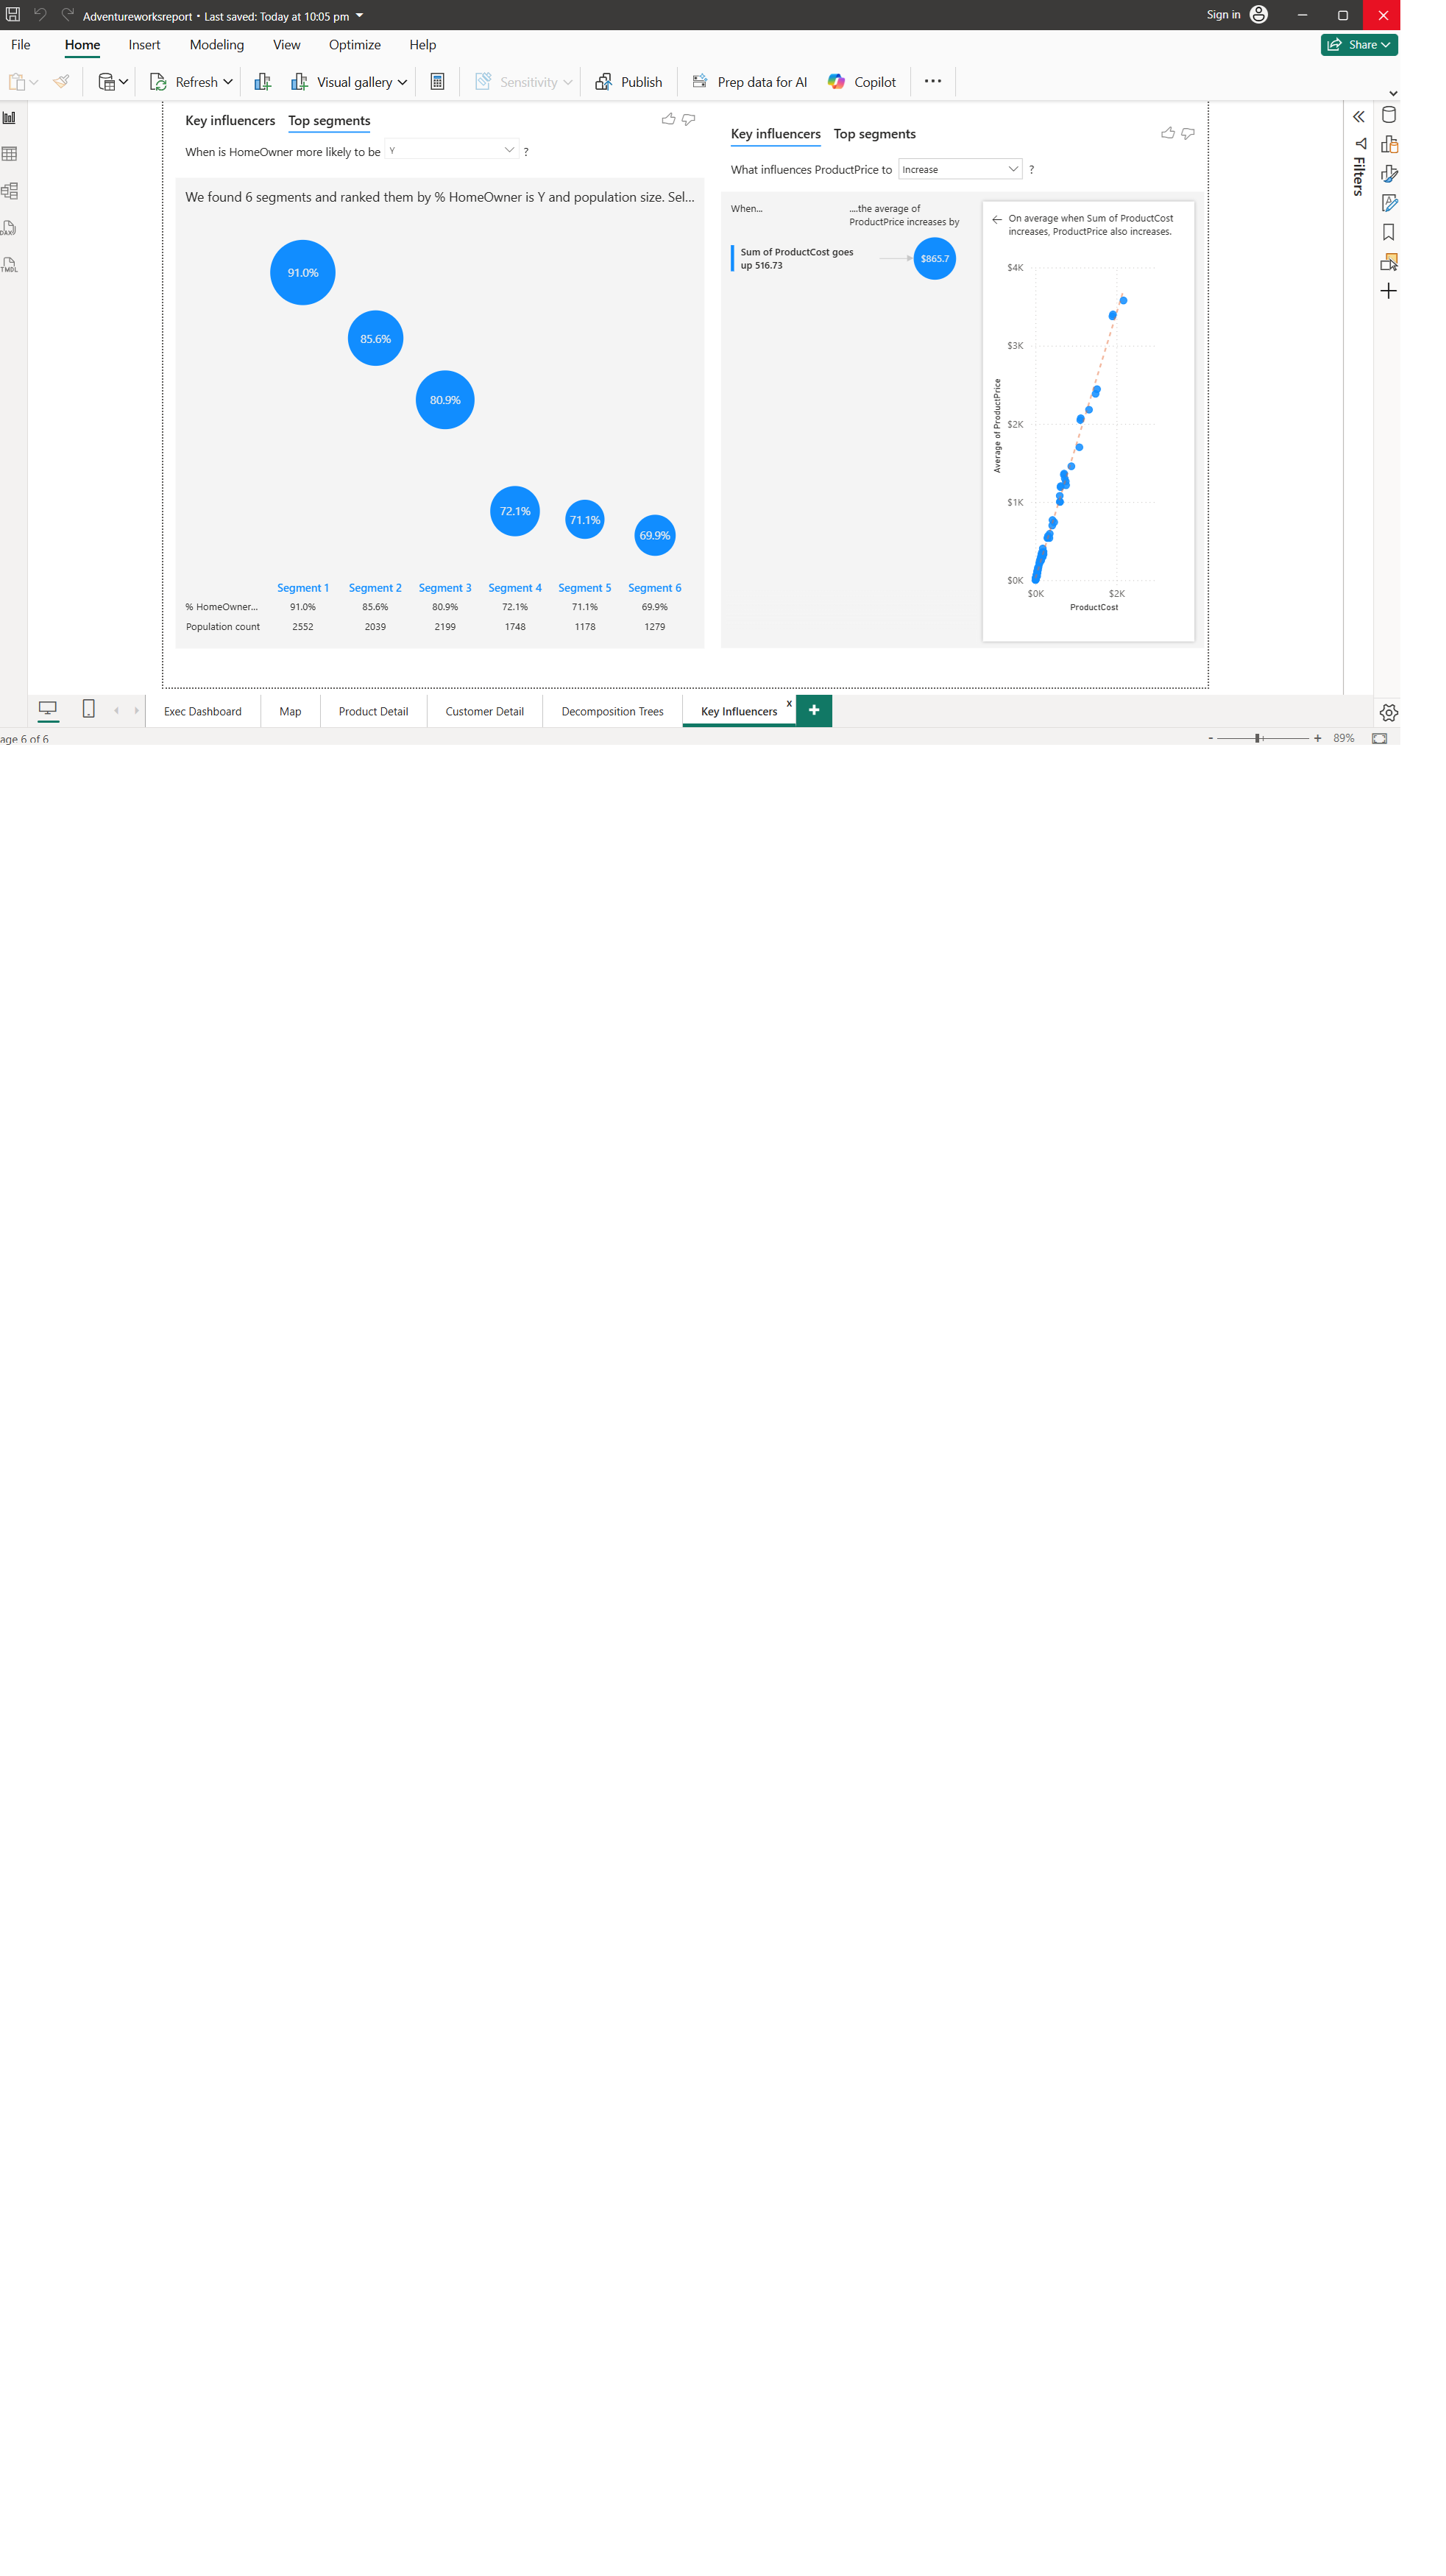

What the dashboard file says about the page in this screenshot:
{"tool":"powerbi","page":{"name":"Key Influencers","canvas":[1280,720],"ordinal":5},"visuals":[{"type":"keyDriversVisual","fields":{"ExplainBy":["Sum(Customer Lookup.AnnualIncome)","Customer Lookup.EducationLevel","Customer Lookup.MaritalStatus","Customer Lookup.Parent","Customer Lookup.Occupation"],"Target":["Customer Lookup.HomeOwner"]},"box":[10.1,0,657.9,676.7],"z":0},{"type":"keyDriversVisual","fields":{"ExplainBy":["Sum(Product Lookup.ProductCost)"],"Target":["Product Lookup.ProductPrice"]},"box":[678.1,17.3,601.6,659.3],"z":1}]}

Visuals, with their boxes on the page's 1280x720 design canvas (x1, y1, x2, y2). These are canvas units, not pixel positions in the 1446x2576 screenshot, which may show the page scaled, cropped or inside an application window:
keyDriversVisual - Sum(Customer Lookup.AnnualIncome) x Customer Lookup.EducationLevel: [10, 0, 668, 677]
keyDriversVisual - Sum(Product Lookup.ProductCost) x Product Lookup.ProductPrice: [678, 17, 1280, 677]
